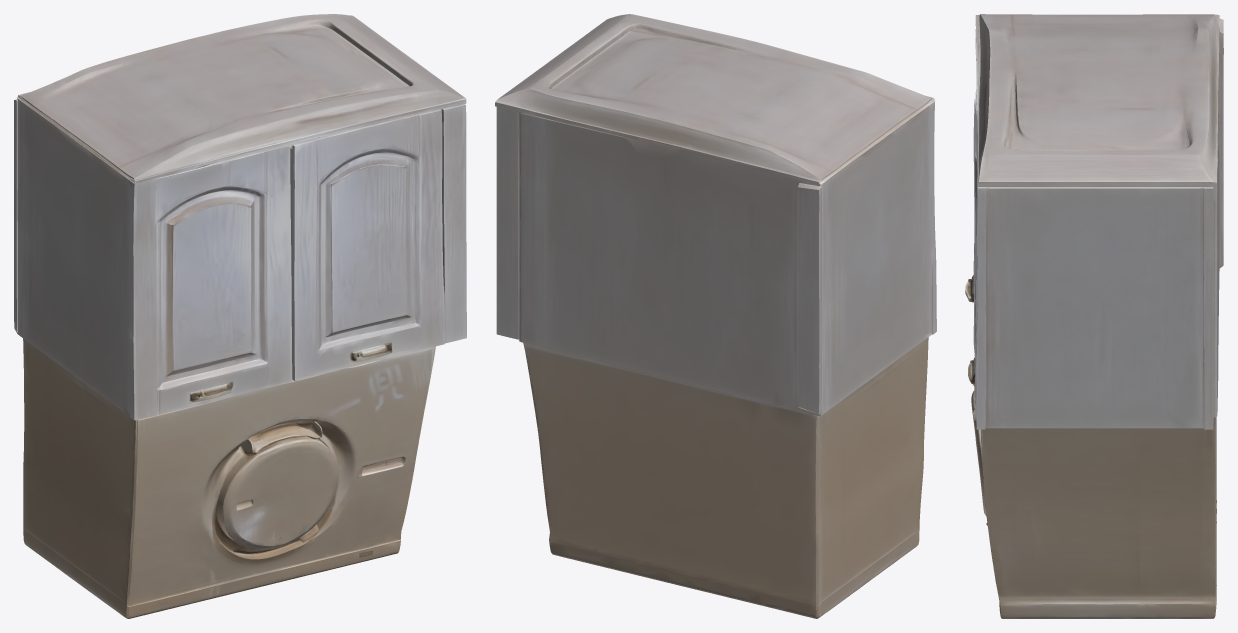
The model's file is ceiling-light.glb.
3 views of the same model, side by side, from view 1: azimuth 30°, elevation 25°; view 2: azimuth 150°, elevation 25°; view 3: azimuth 270°, elevation 25° (orthographic). The views are drawn at different scales.
Visible parts, largest first — view 1: model; view 2: model; view 3: model.
Boxes of the visible parts, x1=… form: model: x1=14, y1=14, x2=466, y2=618; model: x1=495, y1=14, x2=936, y2=618; model: x1=965, y1=14, x2=1223, y2=618.
Bounding box in the file's own units: 1.41 × 1.89 × 0.9118.
Materials: 1 (1 with a texture image).
